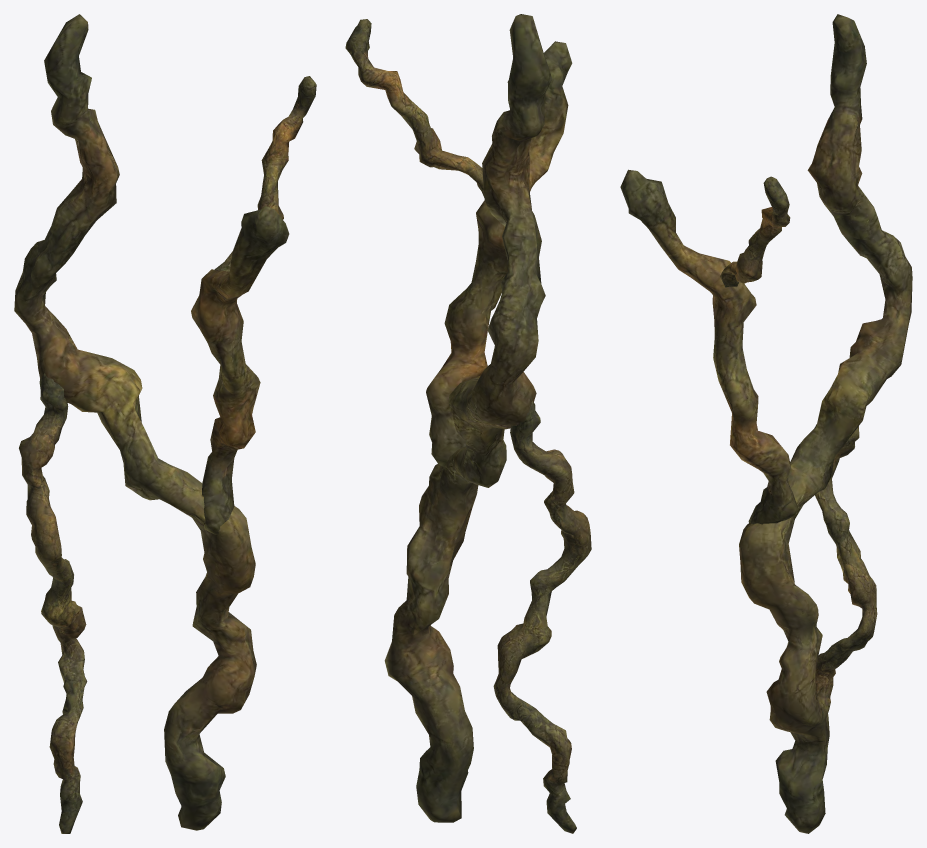
Rendered from Biomass - TC 3-BNXtoDhj.glb.
3 views of the same model, side by side, from view 1: azimuth 30°, elevation 25°; view 2: azimuth 150°, elevation 25°; view 3: azimuth 270°, elevation 25° (orthographic). The views are drawn at different scales.
Parts seen in each view (by area): view 1: BiomassTC_3; view 2: BiomassTC_3; view 3: BiomassTC_3.
Boxes of the visible parts, x1=… form: BiomassTC_3: x1=14, y1=14, x2=316, y2=833; BiomassTC_3: x1=345, y1=14, x2=591, y2=833; BiomassTC_3: x1=620, y1=14, x2=912, y2=833.
Bounding box in the file's own units: 1.07 × 3.28 × 1.13.
Materials: 1 (1 with a texture image).
